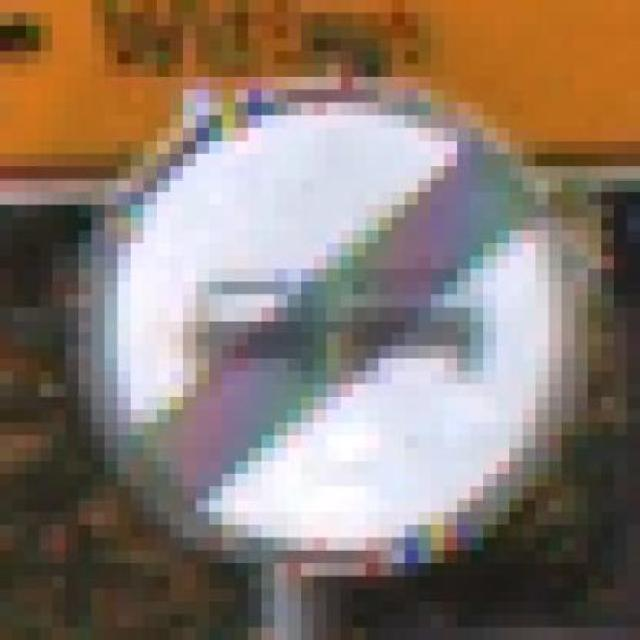No_Over_Taking: (39, 51, 601, 589)
